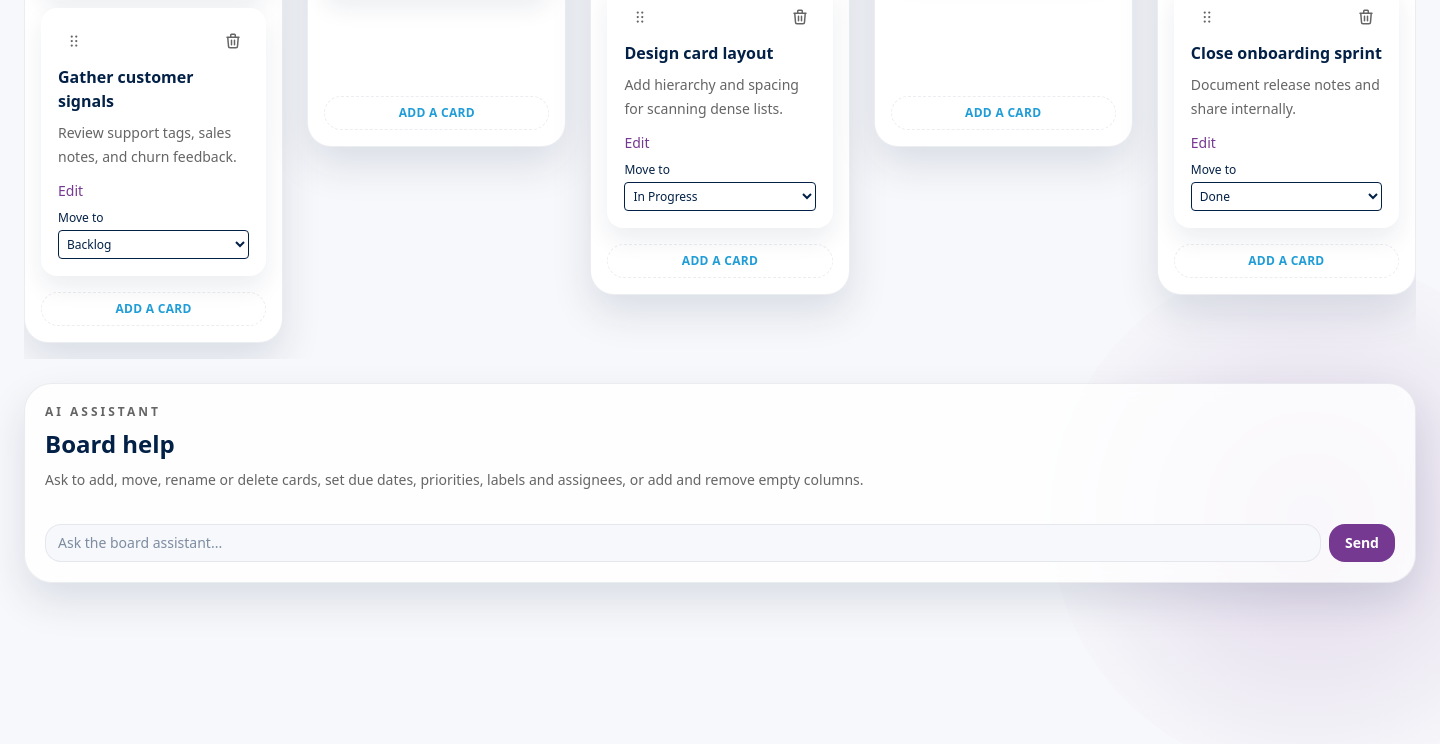
Test: disables the assistant while a card editor is open
(page scrolled)
Type "Rename first card" into the field named "Message to board assistant" at (683, 543), box [45,524,1321,562]
(page scrolled)
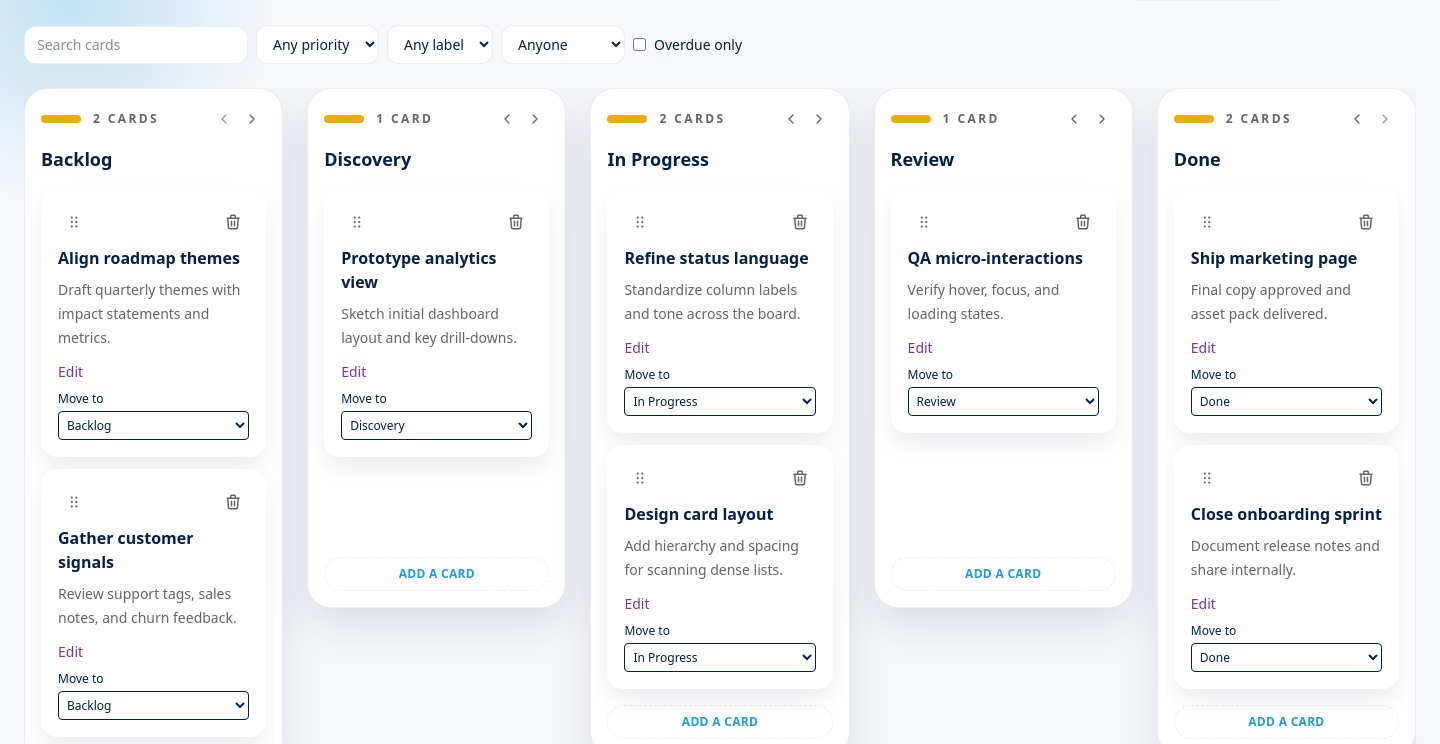
Click the button with aria-label "Edit Align roadmap themes" at (71, 372), box [58,362,83,382]
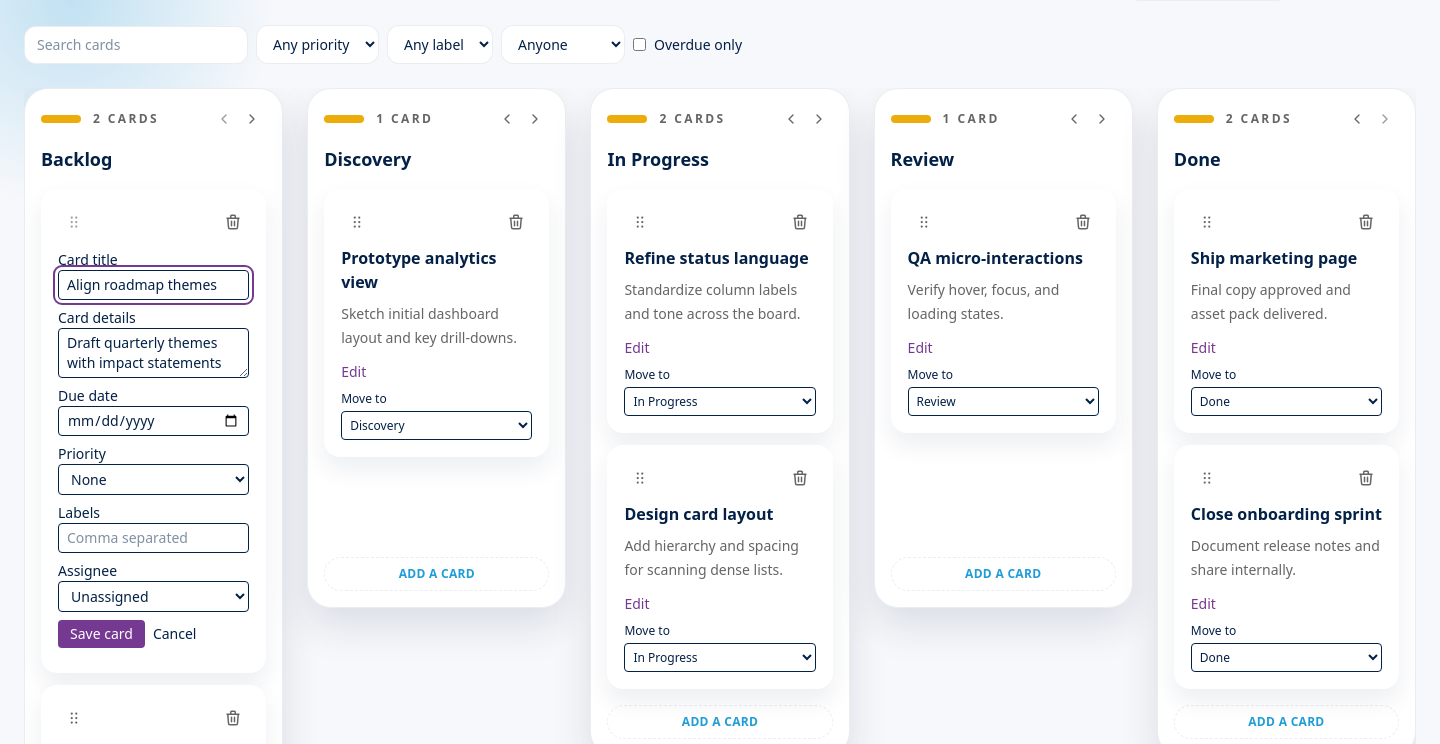
Click the button "Cancel" at (175, 634), box [153,624,196,644]
(page scrolled)
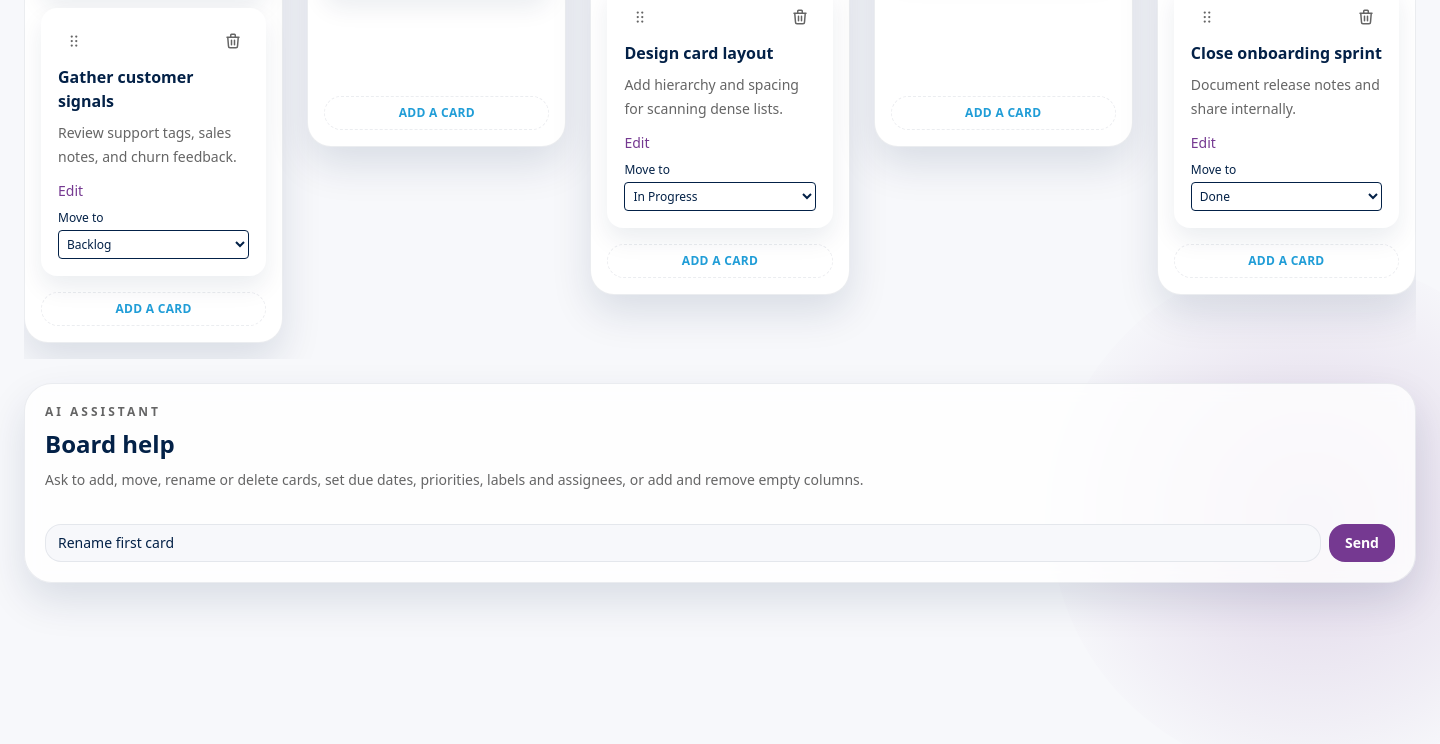
expect the button "Send" is enabled: met, box [1329,524,1395,562]
